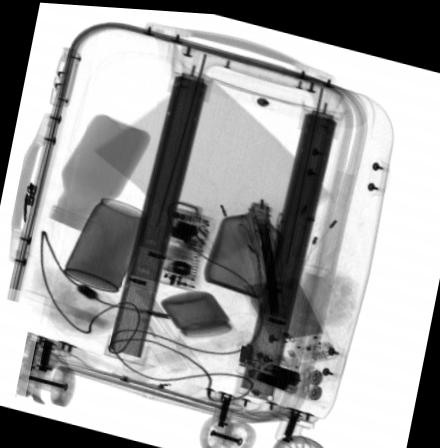Powerbank: (237, 268, 341, 361)
